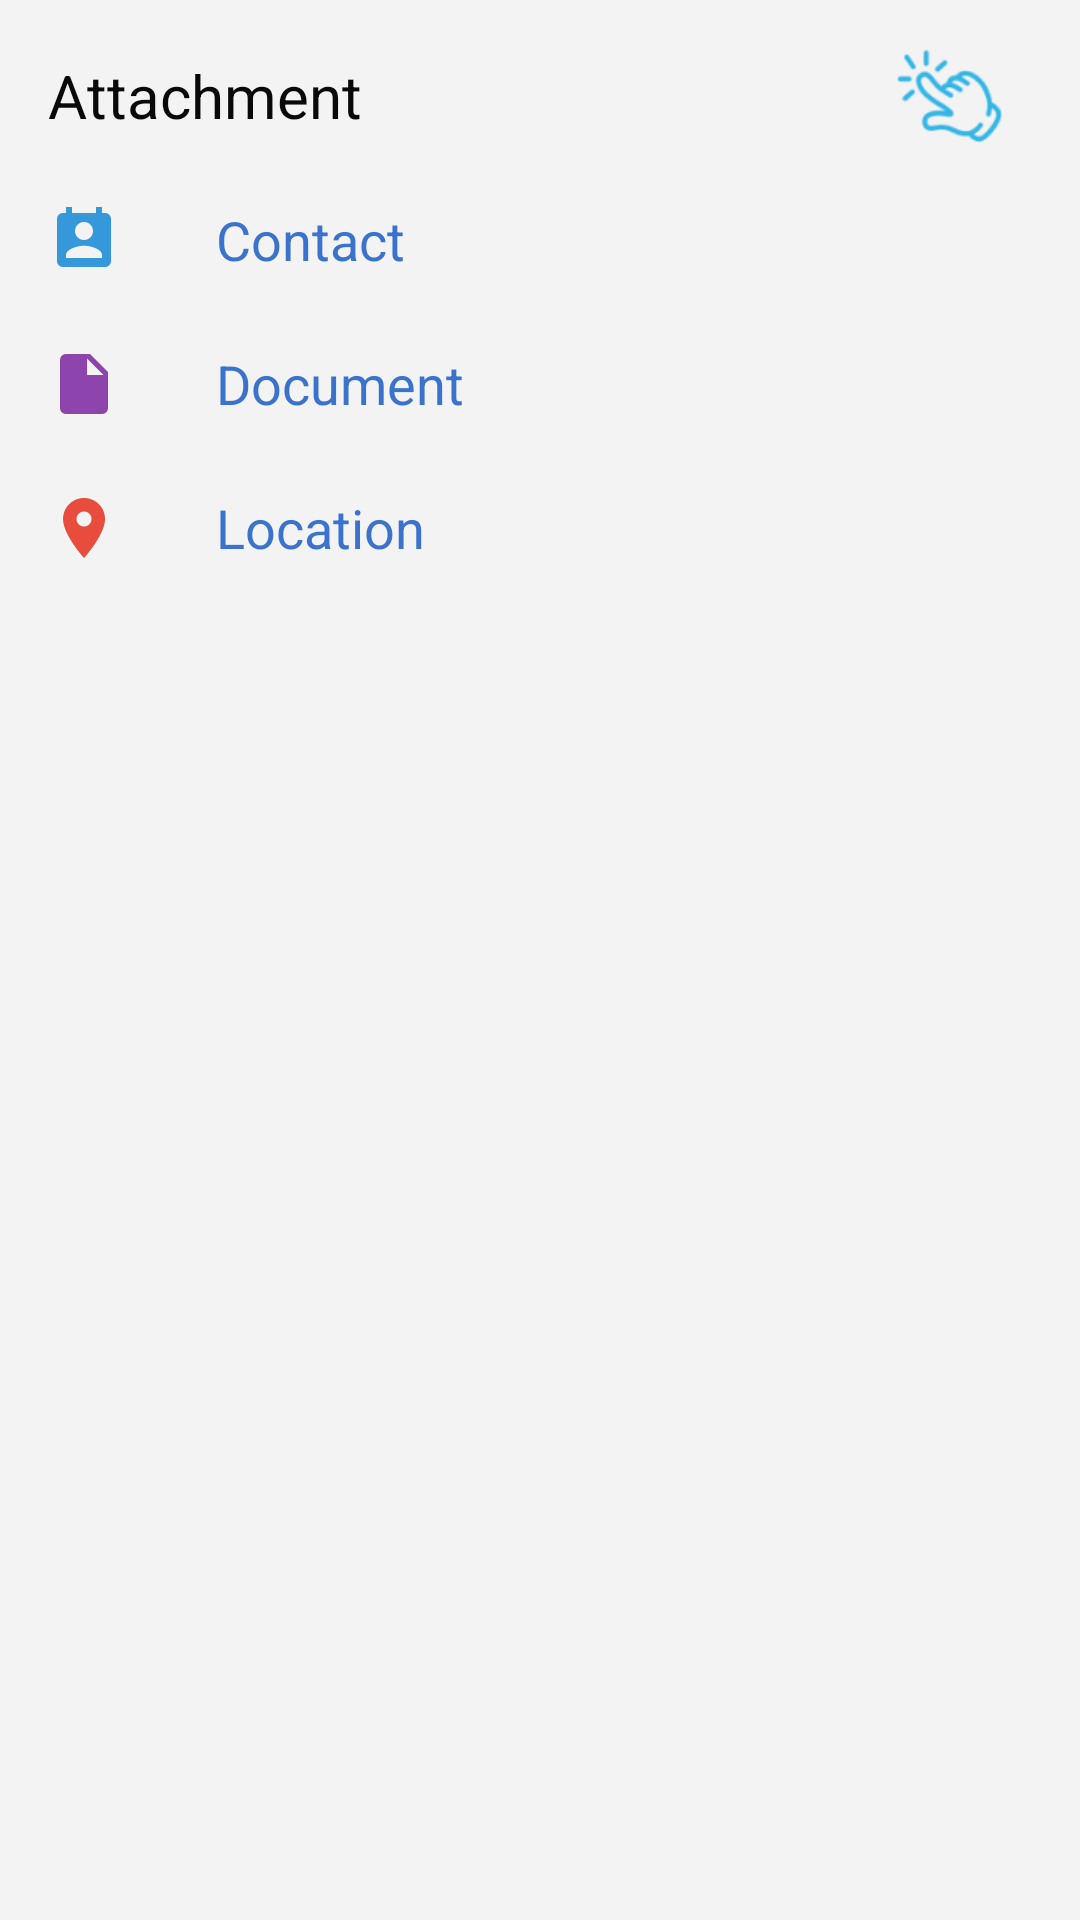

Where icons sit on this 1080w x 1920h app screen, as (x1,y1,x2,y2):
click here: (897,50,1002,143)
